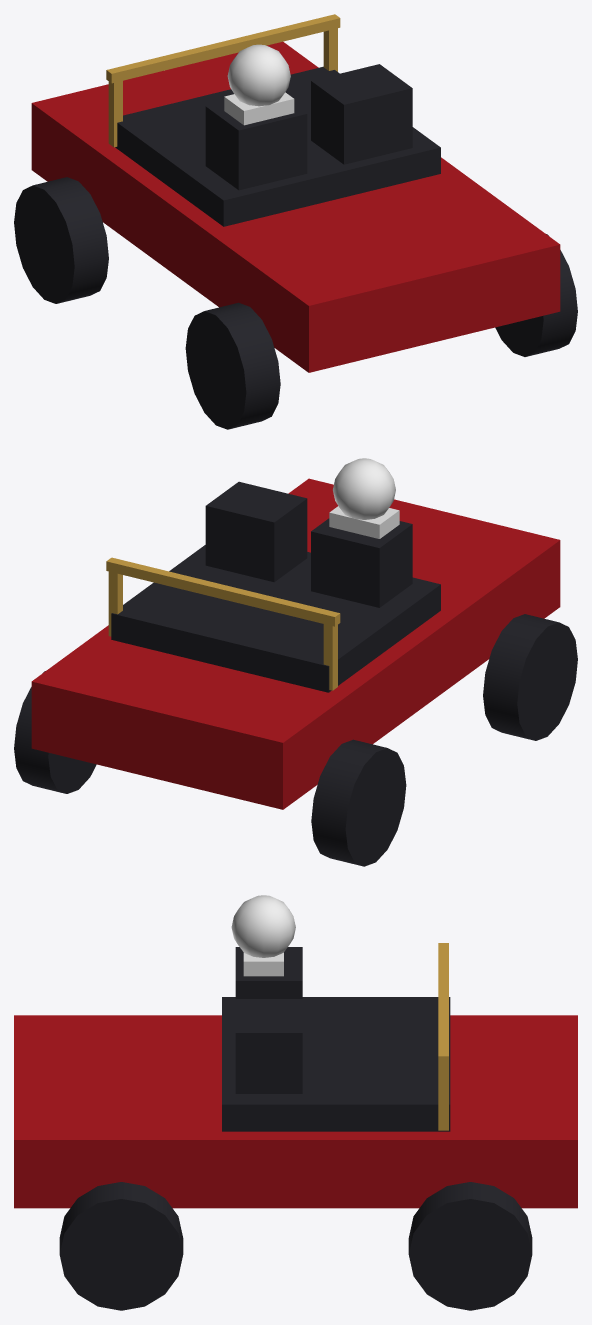
The model's file is roadster.glb.
3 renders of one model, top to bottom at view 1: azimuth 30°, elevation 25°; view 2: azimuth 150°, elevation 25°; view 3: azimuth 270°, elevation 25°, orthographic.
Bounding box in the file's own units: 1.45 × 1.25 × 2.1.
